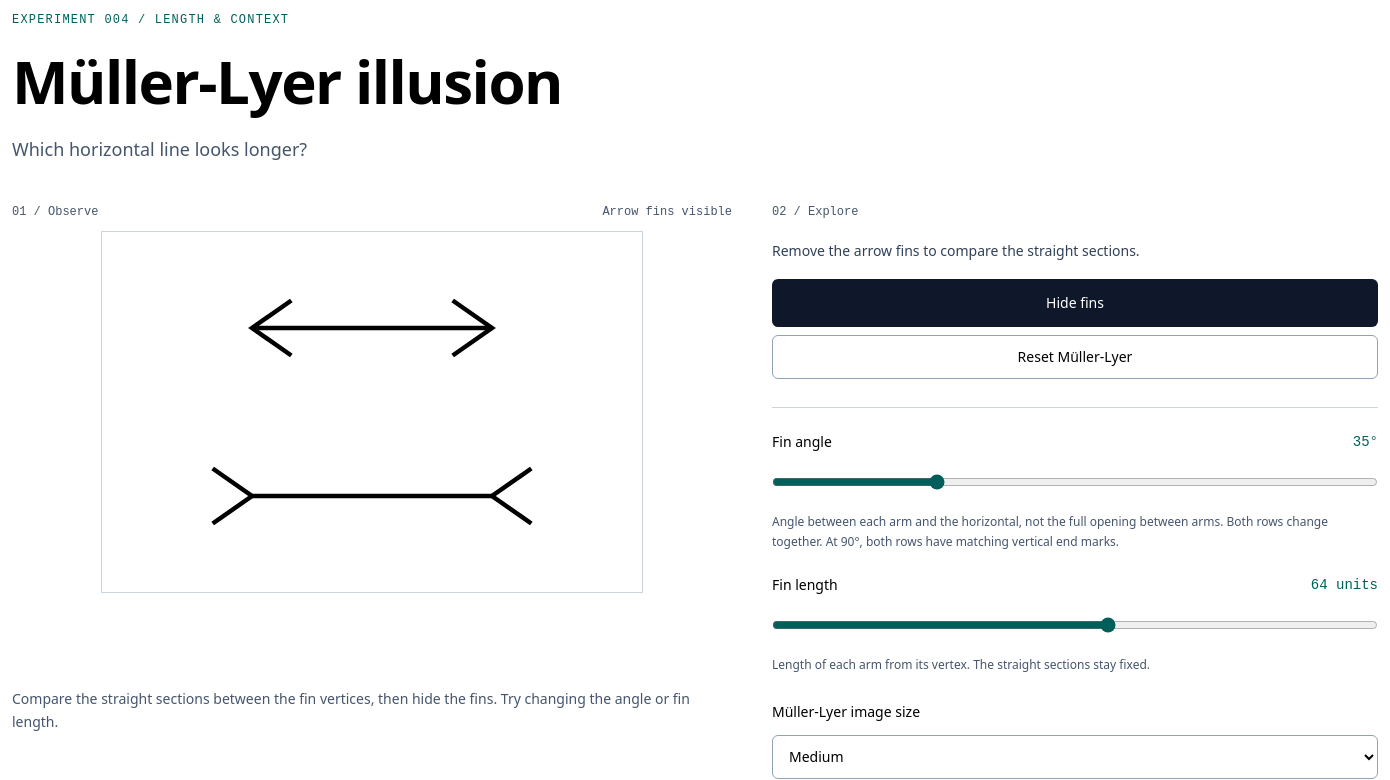
Müller-Lyer experience › shows matching vertical end marks at 90 degrees without replacing either shaft or revealing
Set the slider labelled "Fin angle" to "90" at (1370, 482), box [772,460,1378,504]
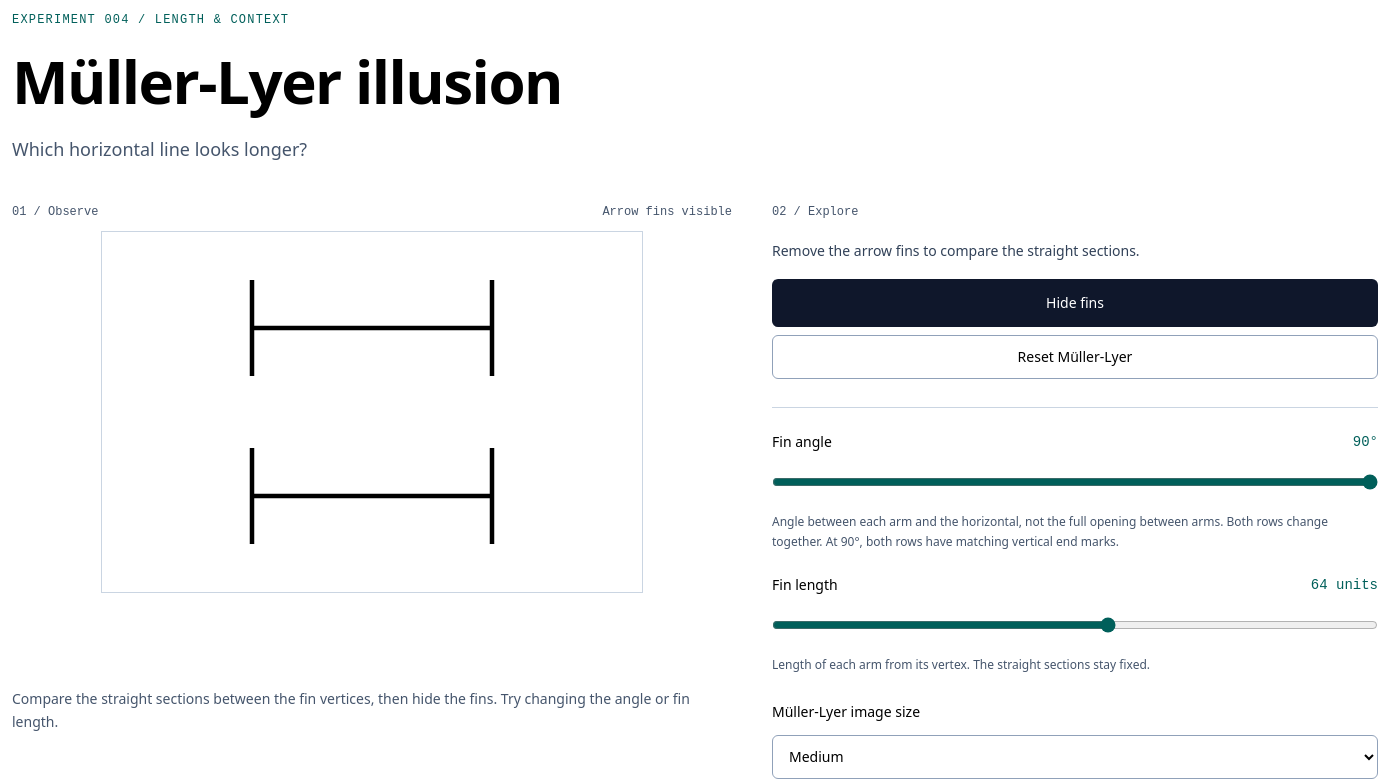
Click the button "Hide fins" at (1075, 303), box [772,279,1378,327]
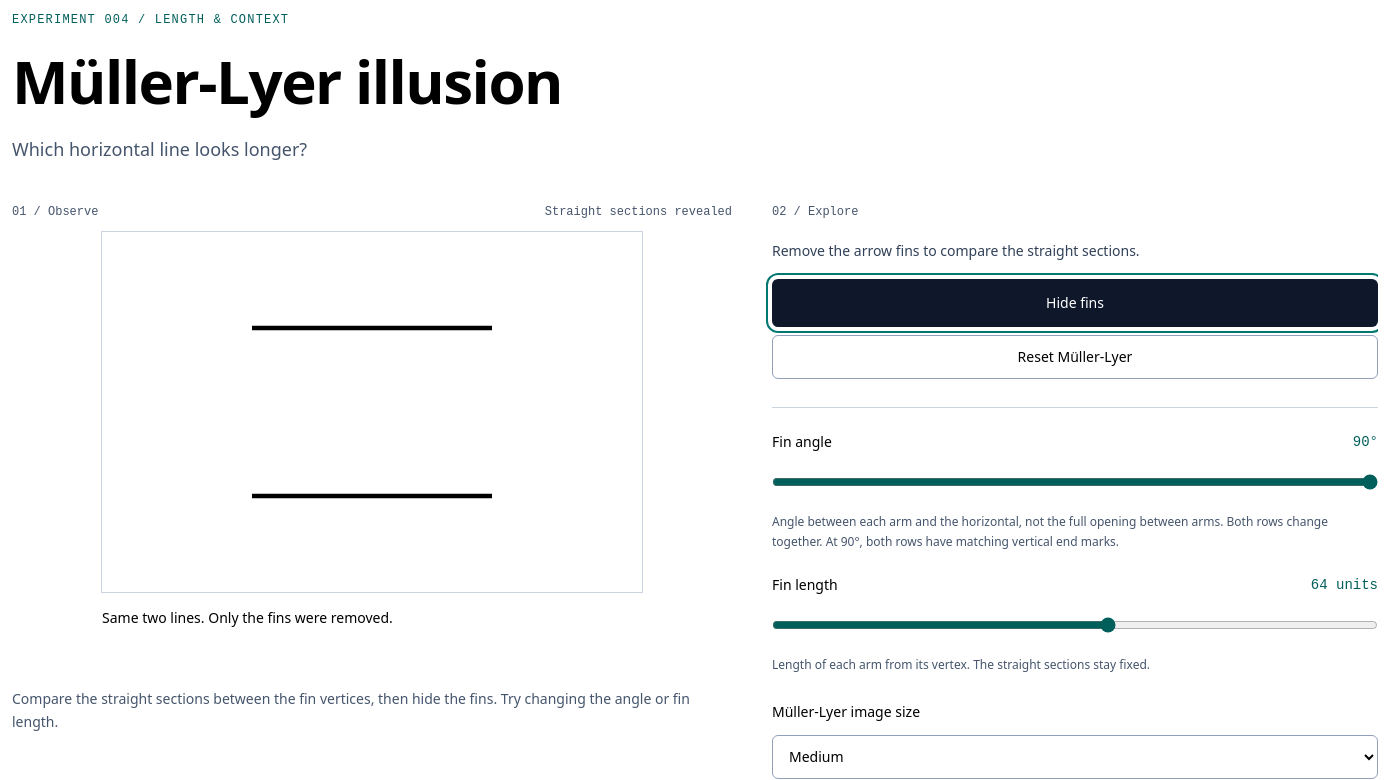
Click the button "Hide fins" at (1075, 303), box [772,279,1378,327]
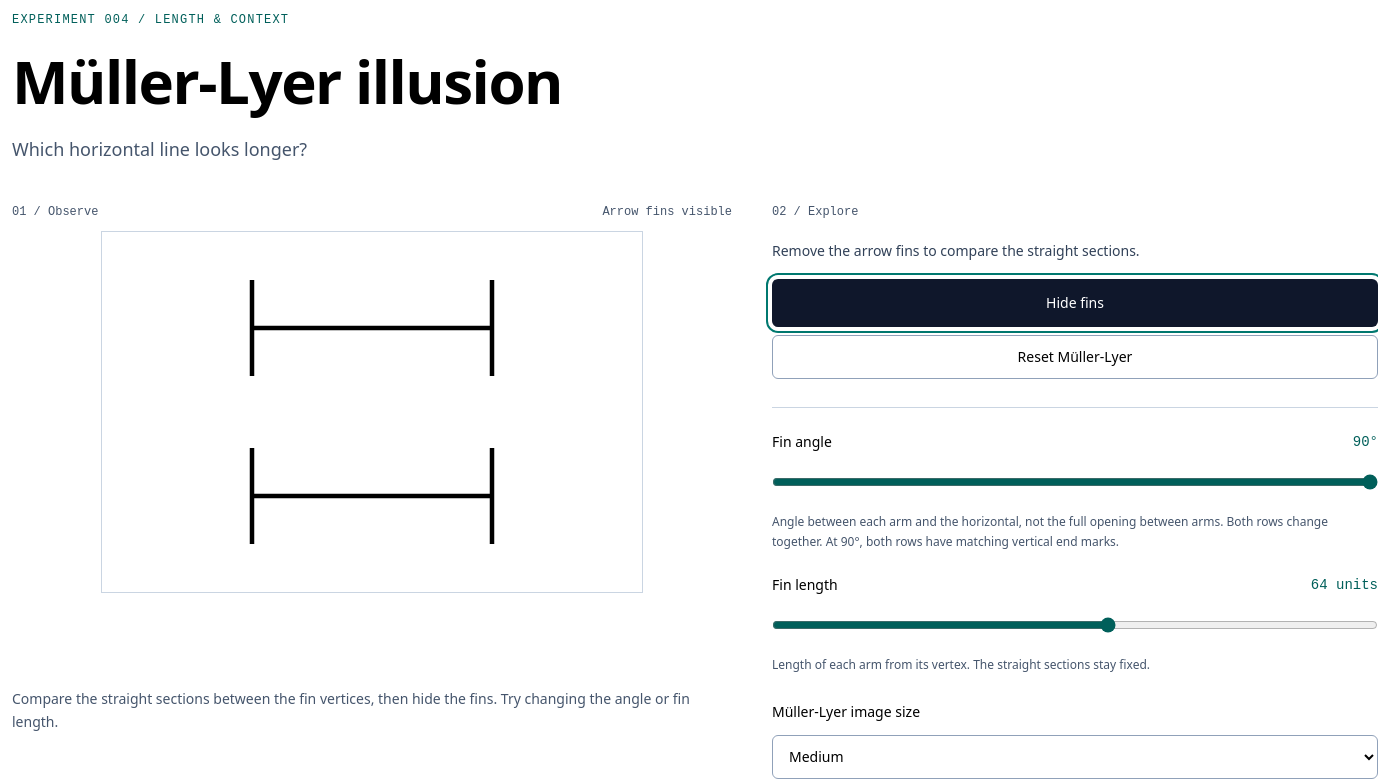
Click the button "Reset Müller-Lyer" at (1075, 357), box [772,335,1378,379]
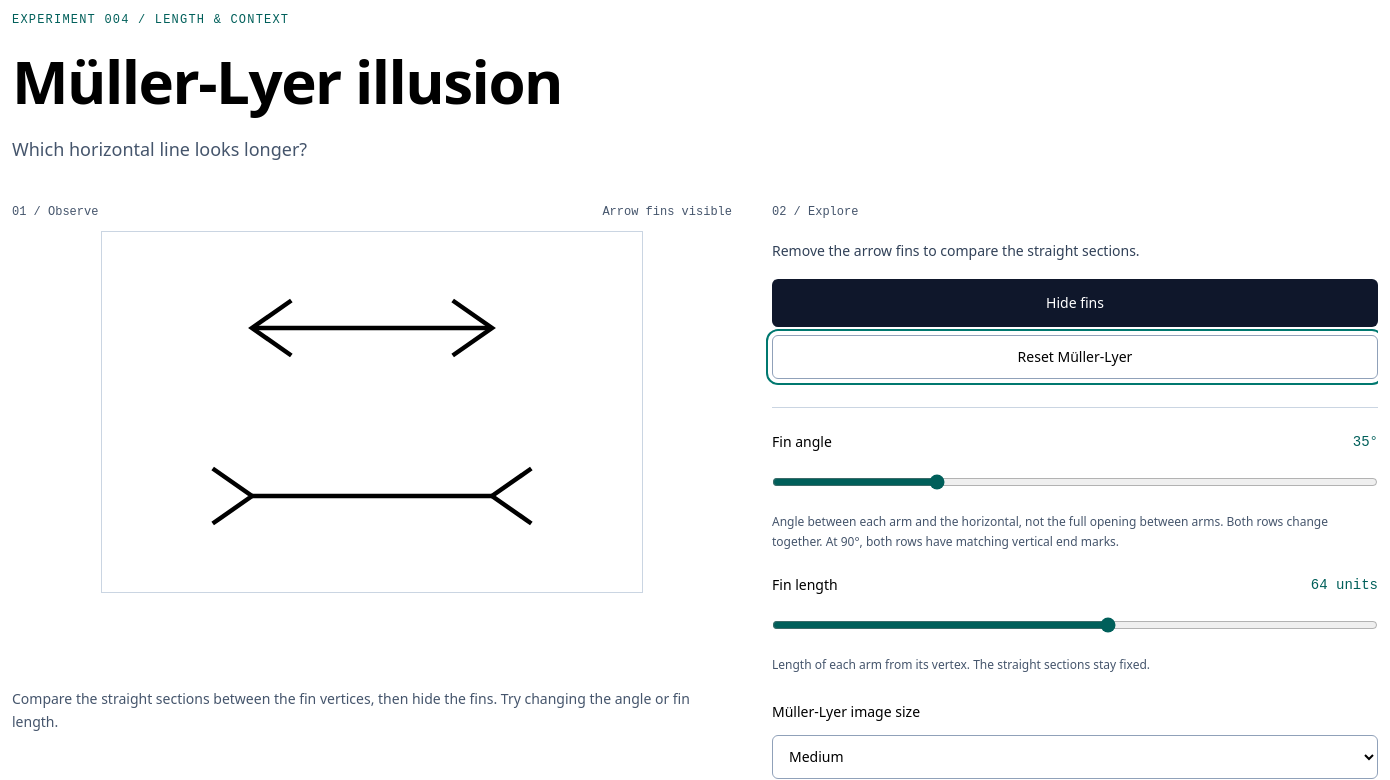
Check: the slider labelled "Fin angle" holds "35", box [772,460,1378,504]
